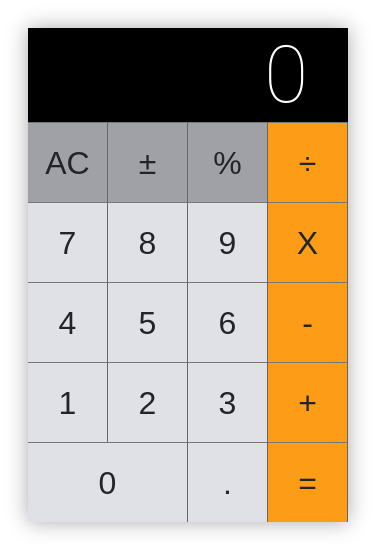
Test: Add two numbers together
What coordinates should you click on to do the following:
click the button "1"
I would click on:
 (68, 402)
Its box is [28, 362, 108, 442].
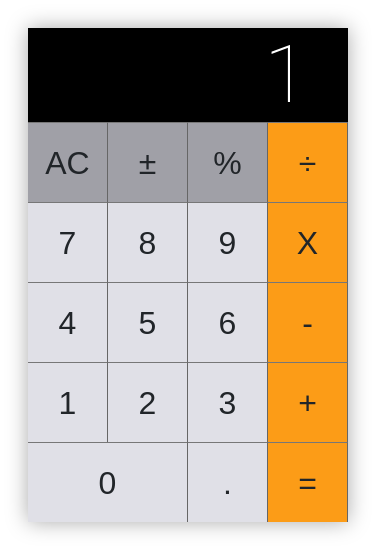
What coordinates should you click on to do the following:
click the button "+"
I would click on:
 (308, 402)
Its box is [268, 362, 348, 442].
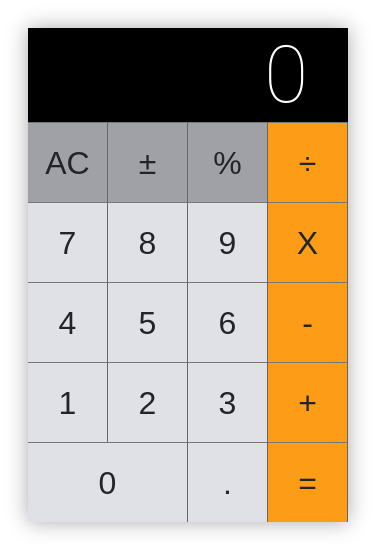
What coordinates should you click on to do the following:
click the button "2"
I would click on:
 (148, 402)
Its box is [108, 362, 188, 442].
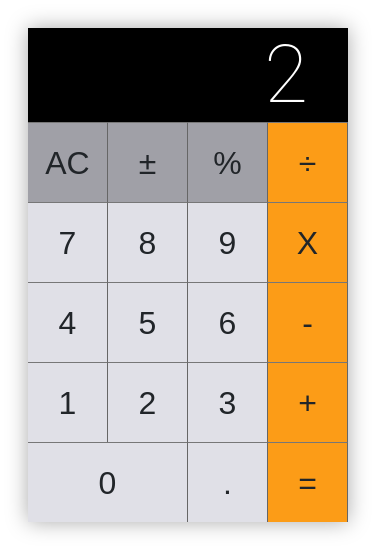
What coordinates should you click on to do the following:
click the button "="
I would click on:
 (308, 482)
Its box is [268, 442, 348, 522].
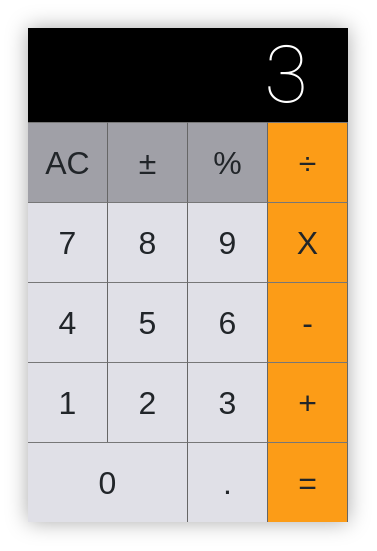
Result: the element with class "calc-screen" reads "3" at [264, 28, 308, 122]
